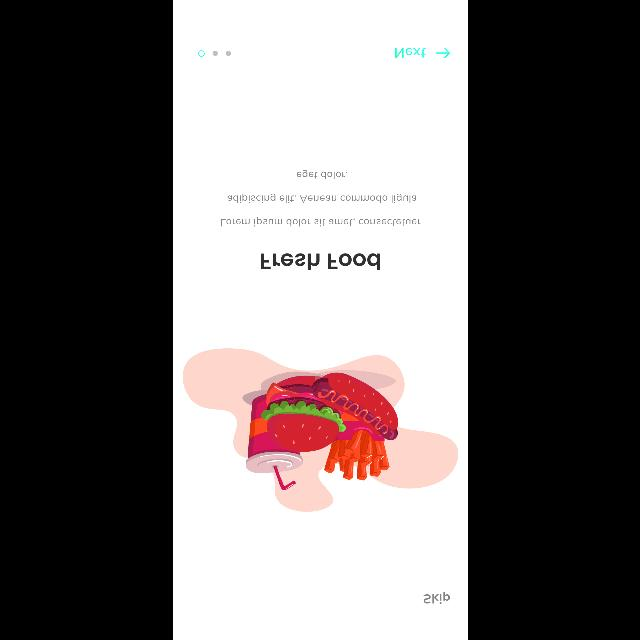icon: (435, 48, 449, 58)
image: (182, 348, 458, 512)
pageindicator: (198, 50, 230, 56)
text: (220, 170, 420, 227), (260, 253, 380, 270), (422, 592, 450, 604), (394, 48, 426, 58)
